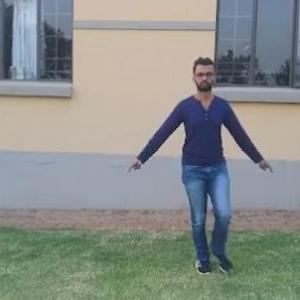land: (143, 73, 266, 242)
